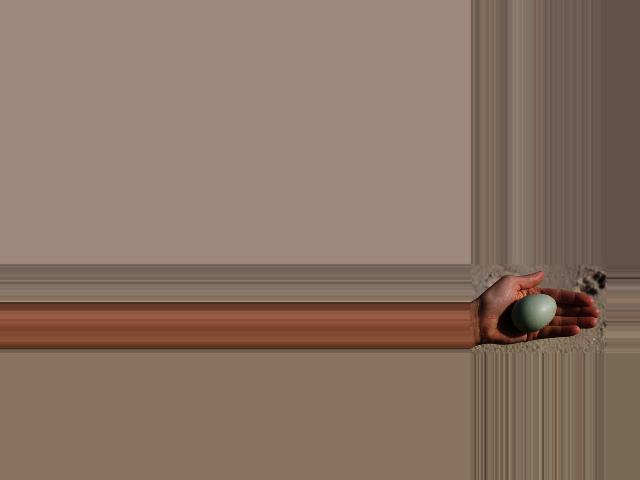egg: (512, 294, 556, 332)
